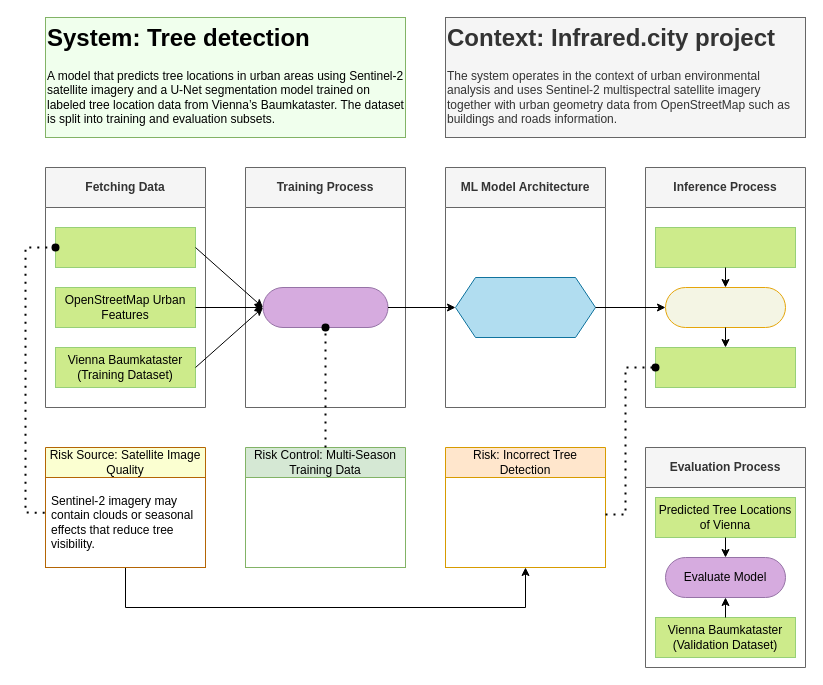
This 823x685 diagram has some shape labels left out. The centre of each missing label's shape, as x and y in pixels:
Predict Tree Locations: point (725, 307)
Predicted Tree Locations Data: point (725, 367)
Sentinel- 2 Satellite Images: point (125, 247)
Sentinel-2 Satellite Image (unseen Test Data): point (725, 247)
The model may misclassify or miss trees in dense urban areas.: point (525, 522)
Train U-Net Model: point (325, 307)
U- Net Segmentation Model: point (525, 307)
Using multi- season satellite imagery could improve tree detection .: point (325, 522)
